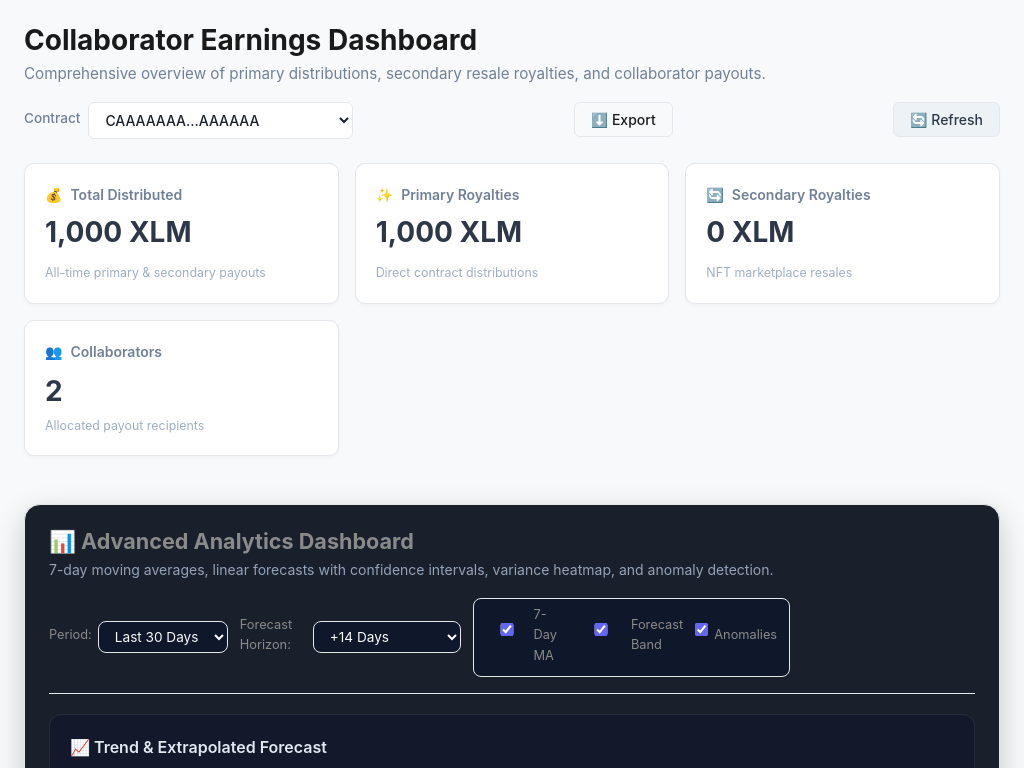
Scenario: EarningsDashboard Component › multi-contract selector › switches to the selected contract and refetches its earnings
Expected: the element with test id "contract-selector" is shown, [24, 102, 353, 139]
Expected: the text "1,000 XLM" below "Total Distributed" is shown, [45, 215, 192, 249]
Select "CBBBBBBB…BBBBBB" in the dropdown labelled "Contract" at (221, 120), box [88, 102, 353, 139]
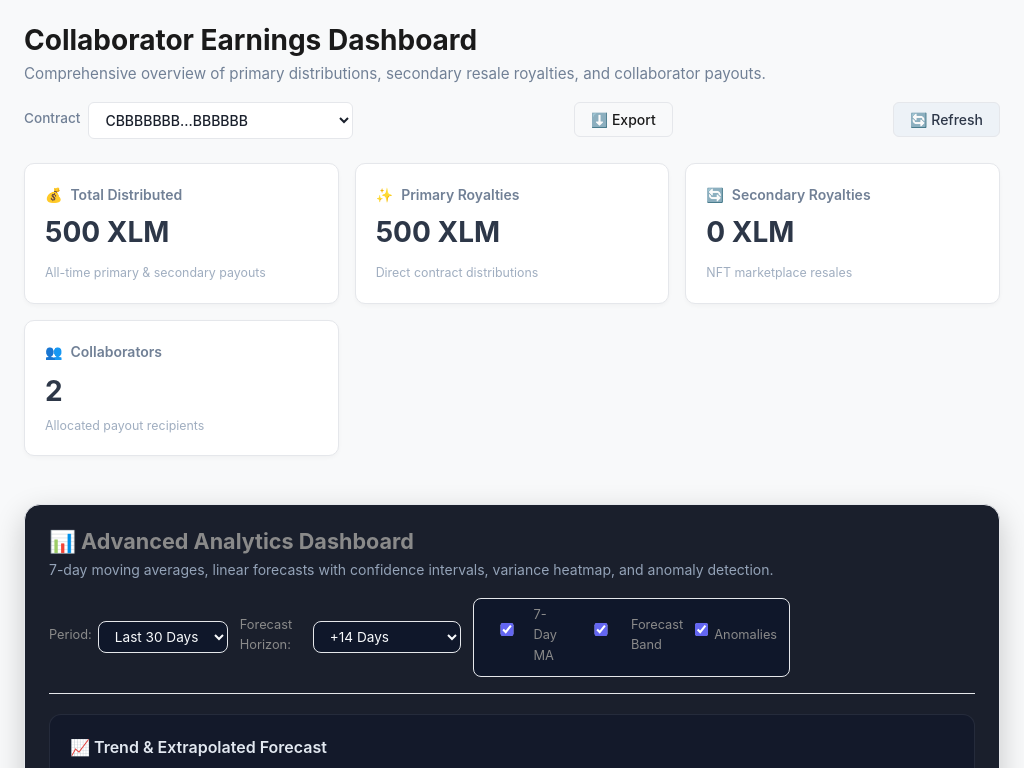
Result: the text "500 XLM" below "Total Distributed" is shown at [45, 215, 169, 249]
